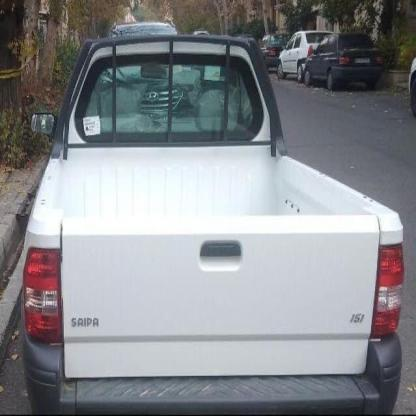Car: (0, 29, 416, 416), (304, 31, 378, 93), (278, 32, 319, 89), (257, 32, 281, 76)
